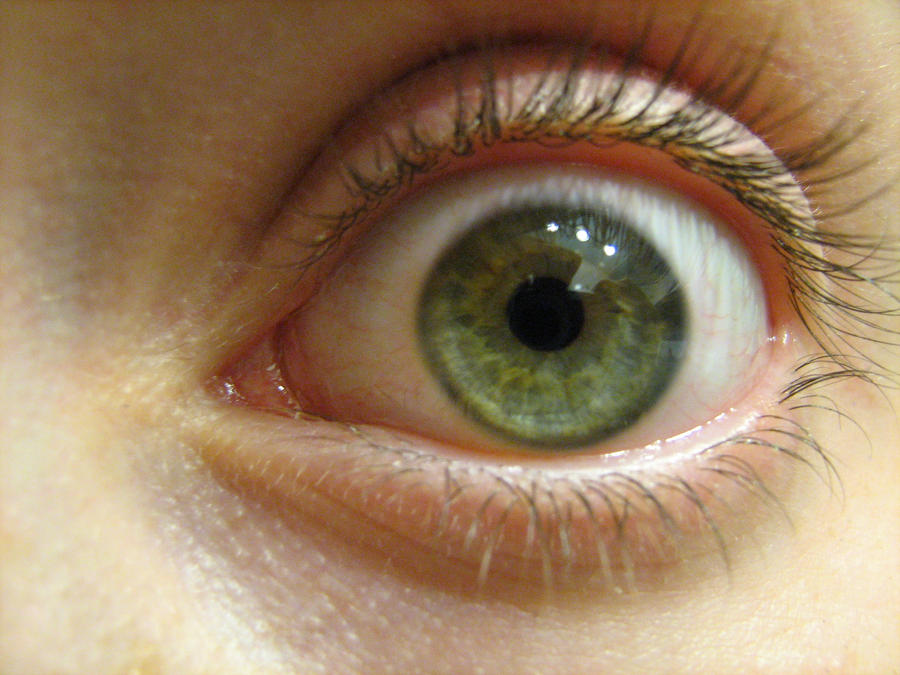iris: (414, 198, 687, 450)
pupil: (505, 276, 587, 351)
